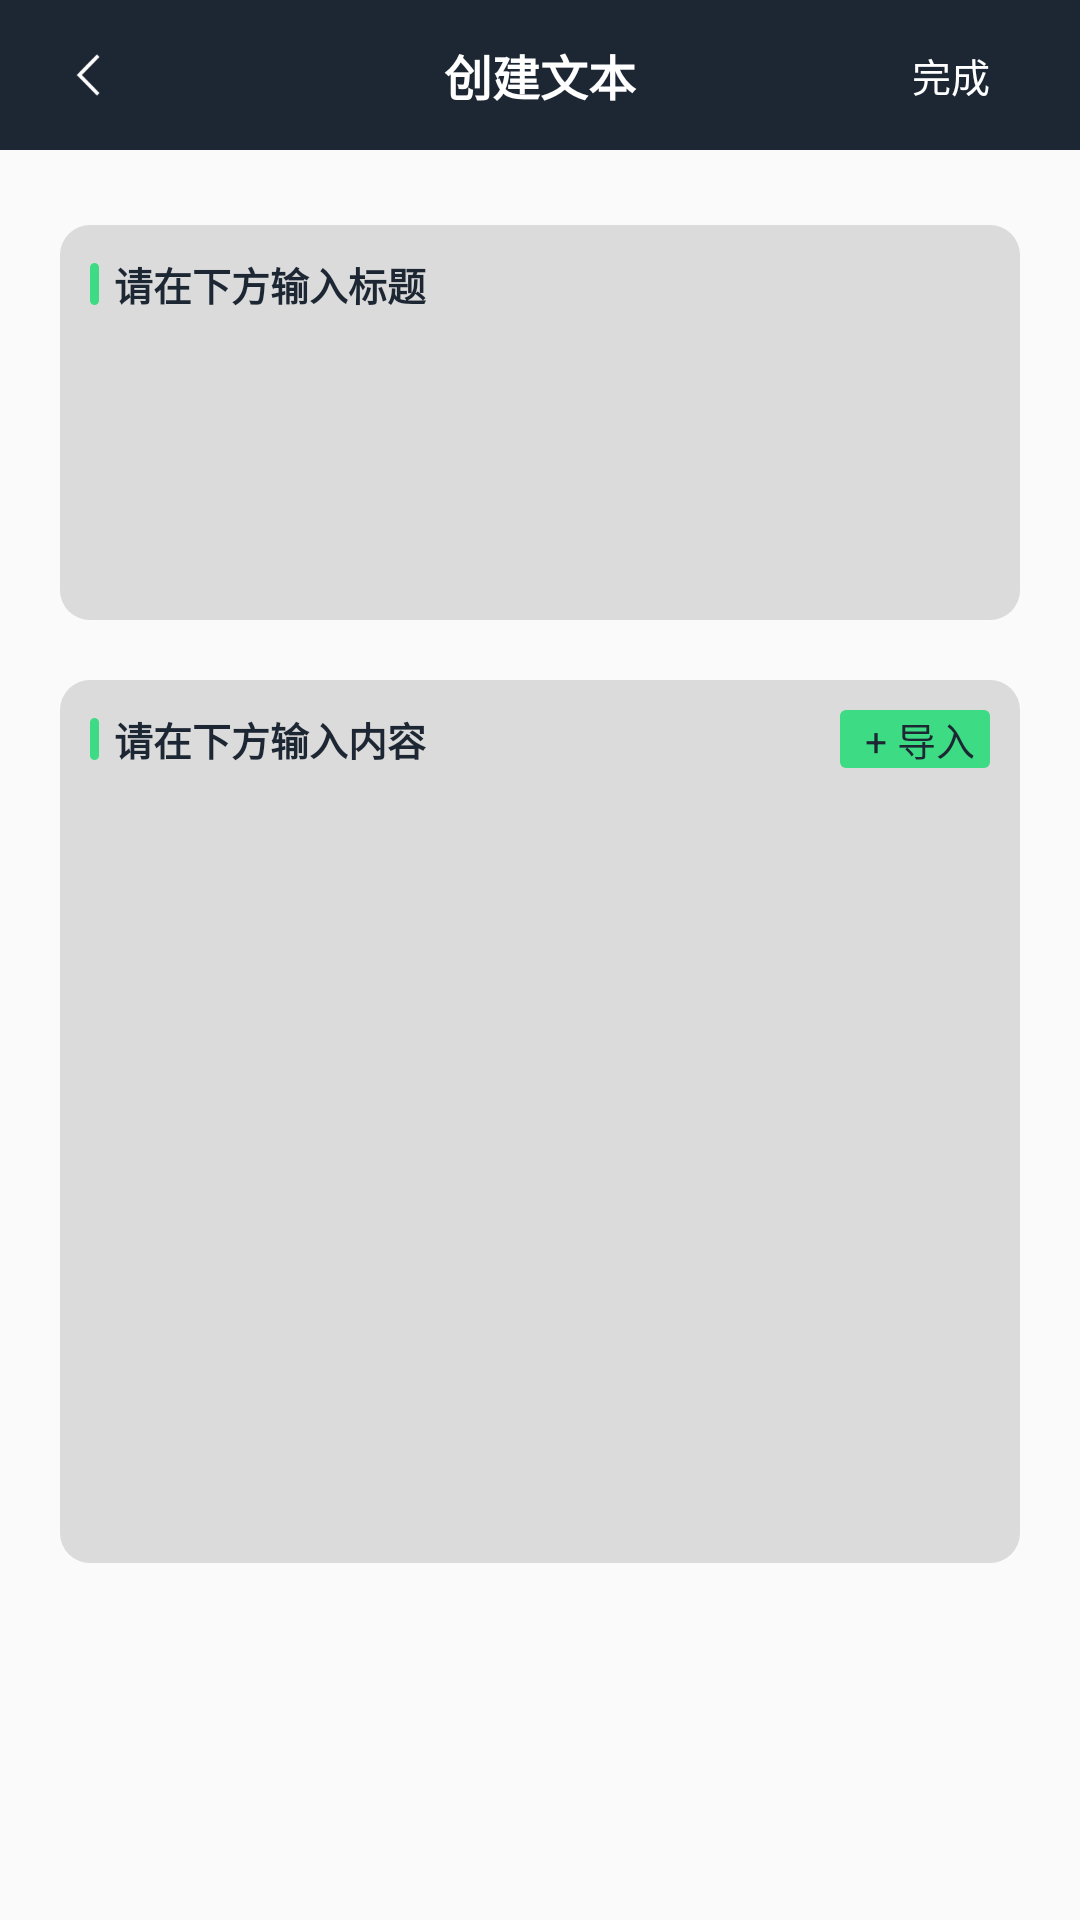

Screen size 1080px x 1920px. Icon name, then its center in pixels as (x,y):
back: (88,75)
